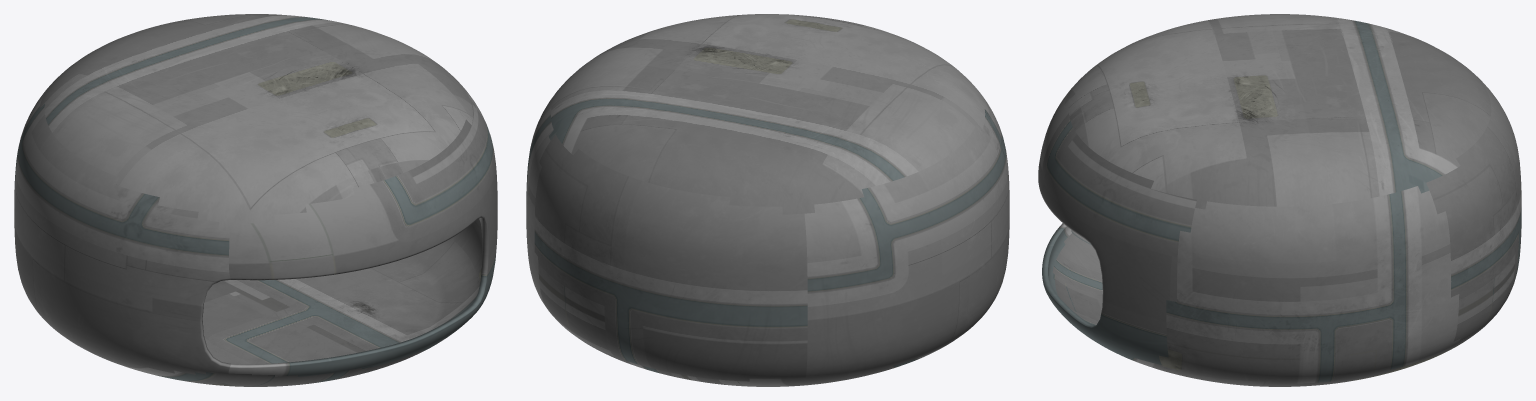
Rendered from Hub.fbx.
The picture shows the model from 3 angles, left to right: view 1: azimuth 30°, elevation 25°; view 2: azimuth 150°, elevation 25°; view 3: azimuth 270°, elevation 25°; orthographic projection.
Parts seen in each view (by area): view 1: Hub; view 2: Hub; view 3: Hub.
Boxes of the visible parts, <box> form: Hub: <box>14,14,497,386</box>; Hub: <box>526,14,1009,386</box>; Hub: <box>1038,14,1521,386</box>.
Bounding box in the file's own units: 80.46 × 45.24 × 80.46.
